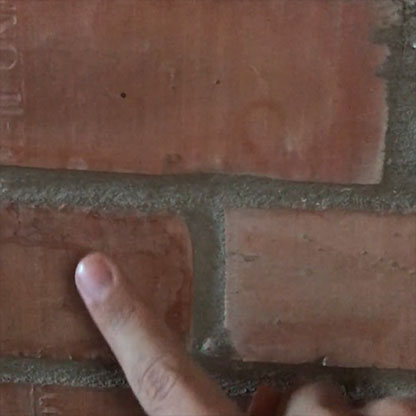fingertip: (64, 246, 128, 313)
